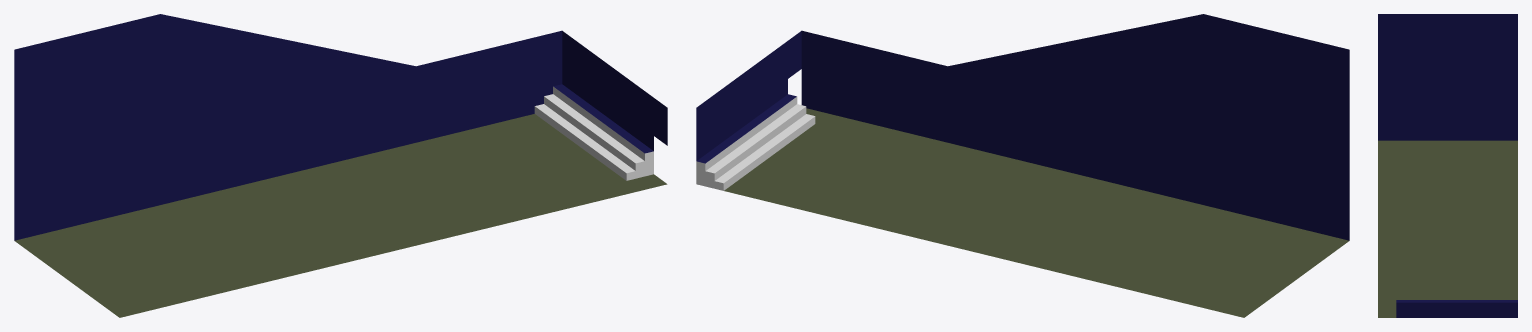
File: Fronton.glb
3 renders of one model, left to right at view 1: azimuth 30°, elevation 25°; view 2: azimuth 150°, elevation 25°; view 3: azimuth 270°, elevation 25°, orthographic. The views are drawn at different scales.
Visible parts, largest first — view 1: Plane.001, Plane.002, Plane; view 2: Plane.001, Plane.002, Plane; view 3: Plane.002, Plane.001.
Boxes of the visible parts, x1,y1,x2,y2 form: Plane.001: (14,14,667,240); Plane.002: (14,114,667,317); Plane: (534,86,653,180); Plane.001: (696,14,1349,240); Plane.002: (724,108,1349,317); Plane: (696,96,815,190); Plane.002: (1378,140,1517,317); Plane.001: (1378,14,1517,317).
Size of the model in its own units: 2.18 by 0.7278 by 0.7278.
